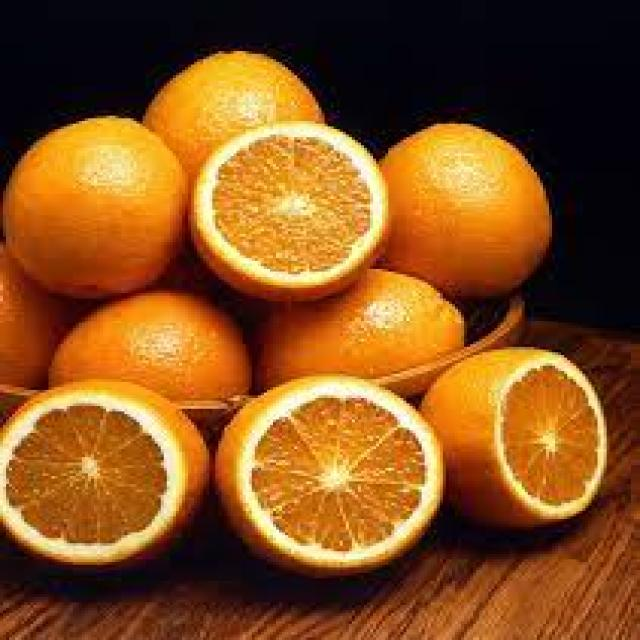orange: (5, 117, 195, 305)
